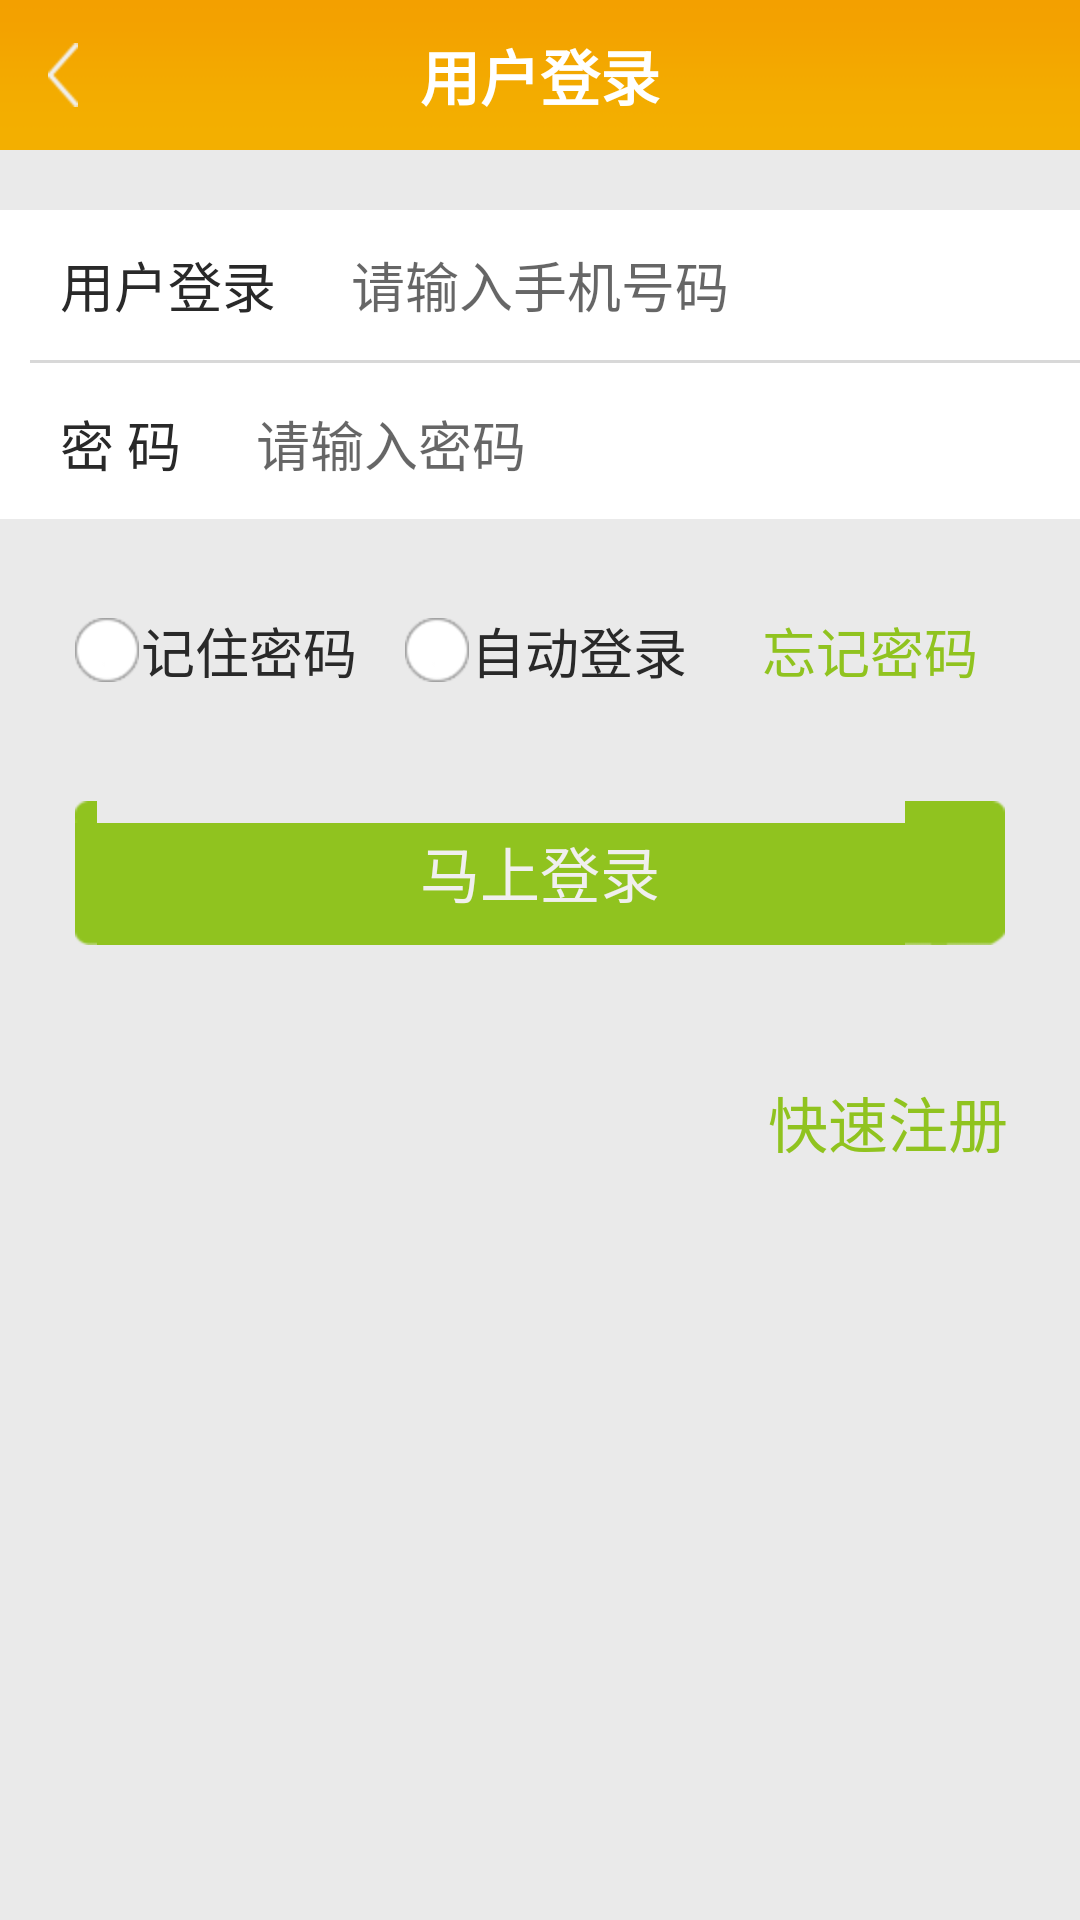

Icon click points for this 1080 x 1920 phone screenshot, format (x=x, y=y):
返回按钮: (x=63, y=75)
